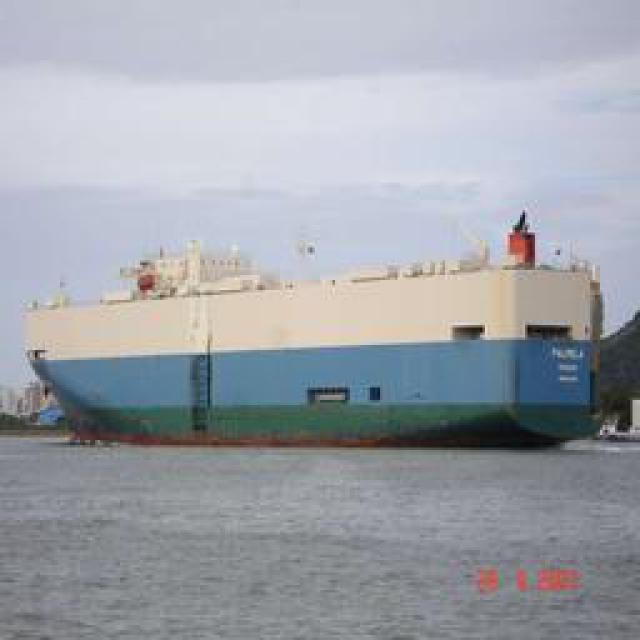Ship: (31, 221, 611, 449)
